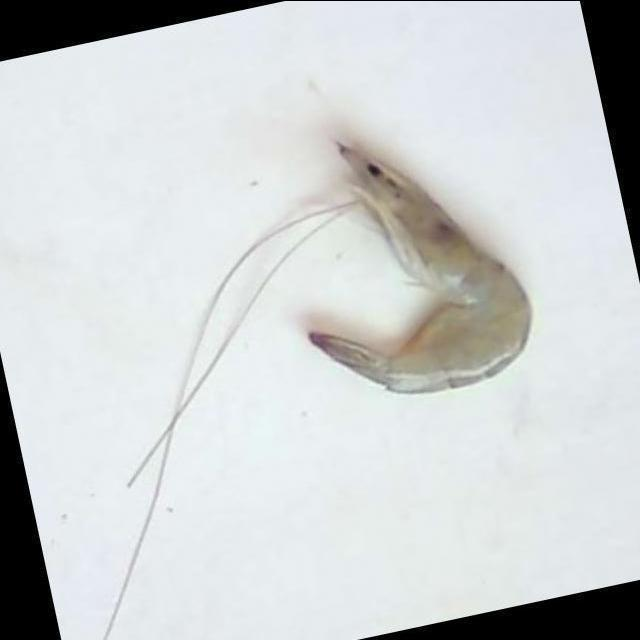shrimp: (310, 141, 532, 392)
